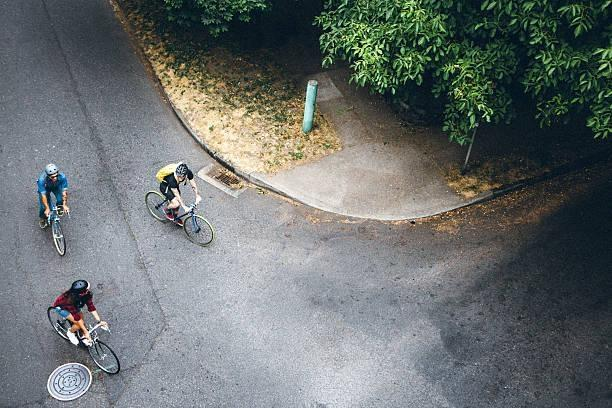Motorcycle: (47, 305, 128, 373), (146, 182, 224, 250), (36, 184, 76, 242)
